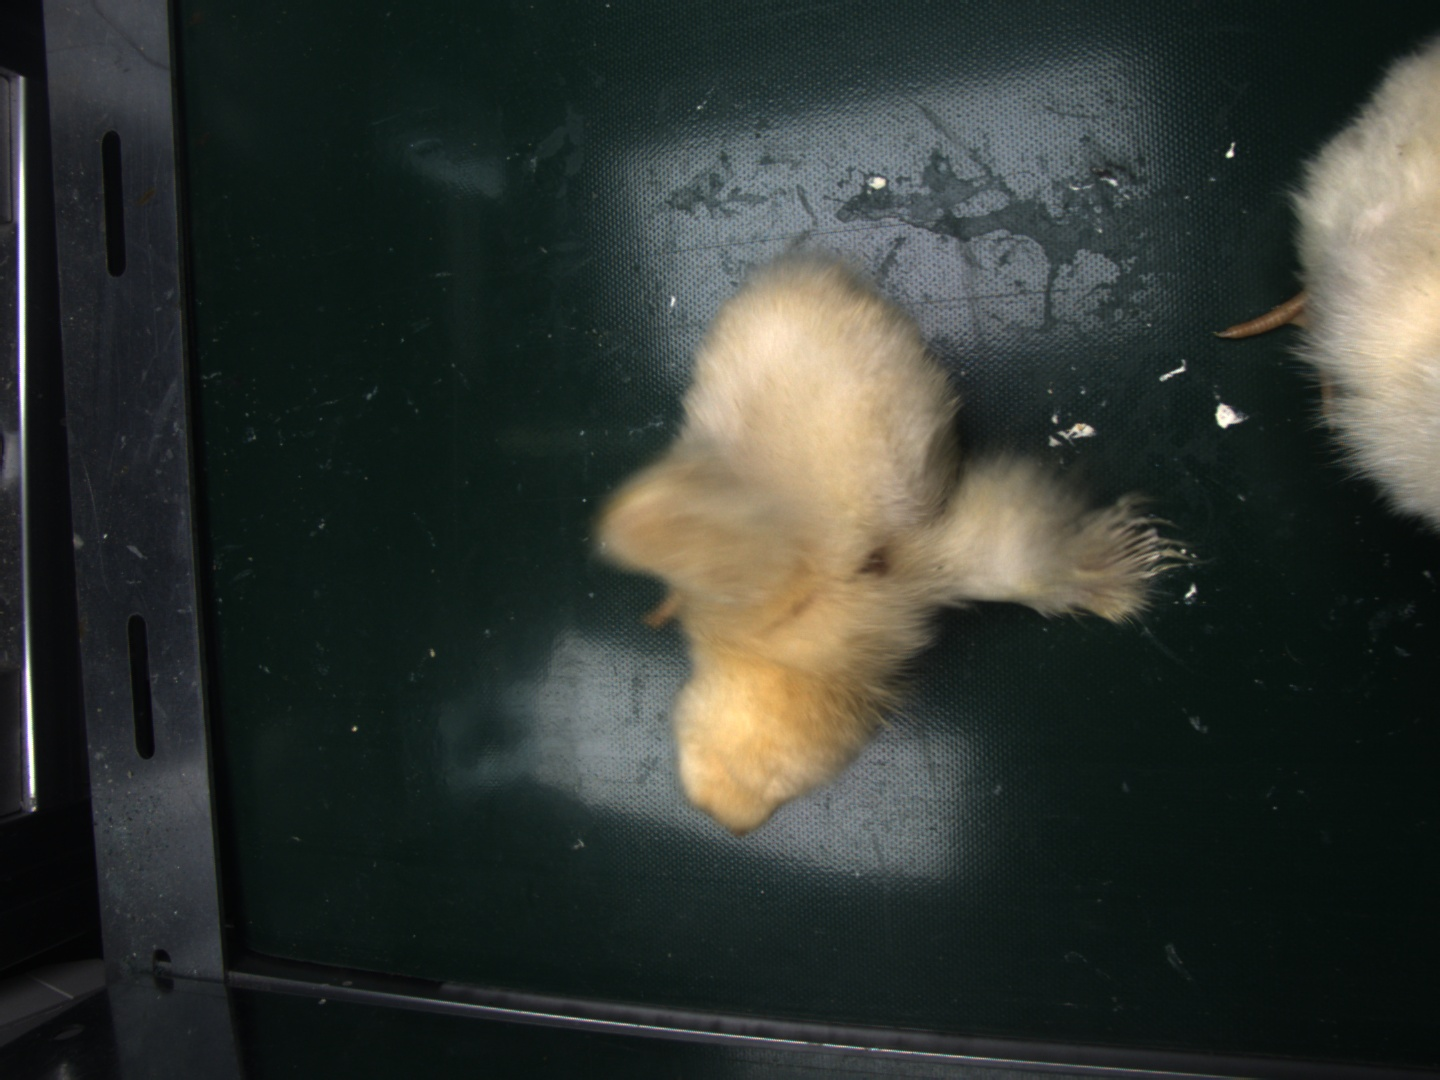male: (1098, 514, 1162, 581)
